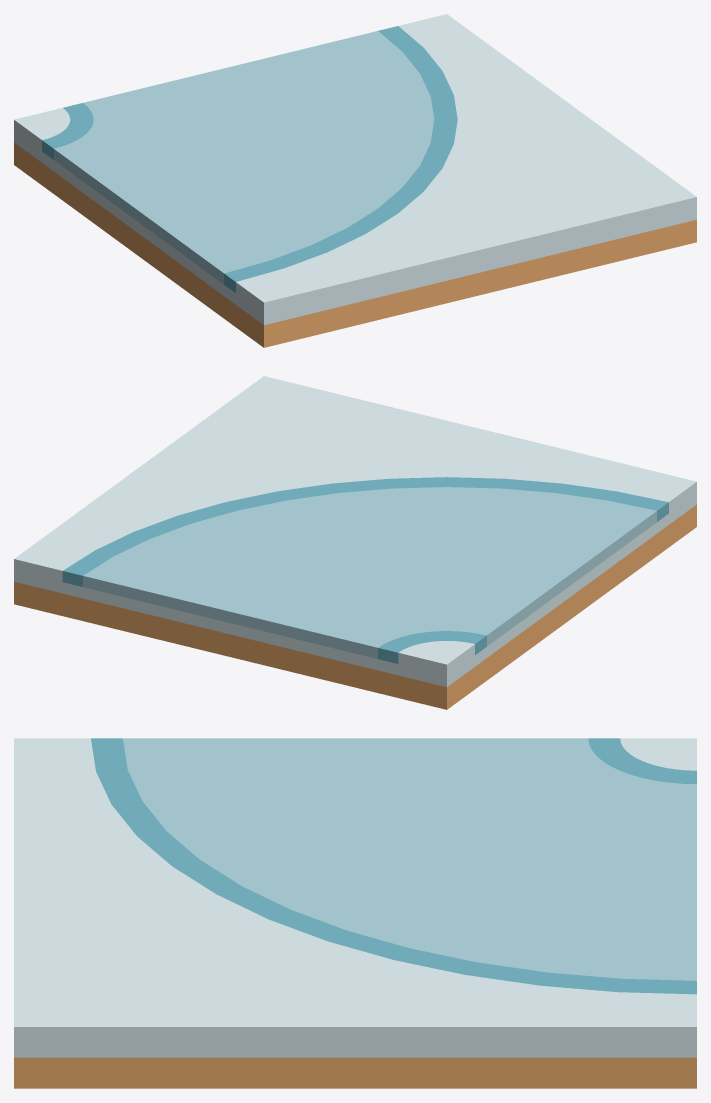
Rendered from snow_tile_wideCorner(+).fbx.
The picture shows the model from 3 angles, top to bottom: view 1: azimuth 30°, elevation 25°; view 2: azimuth 150°, elevation 25°; view 3: azimuth 270°, elevation 25°; orthographic projection. The views are drawn at different scales.
Visible parts, largest first — view 1: Mesh_2; view 2: Mesh_2; view 3: Mesh_2.
Part boxes in pixels (x1,y1,x2,y2): Mesh_2: (14, 14, 696, 347); Mesh_2: (14, 376, 696, 709); Mesh_2: (14, 738, 696, 1088).
Bounding box in the file's own units: 200 × 20 × 200.
